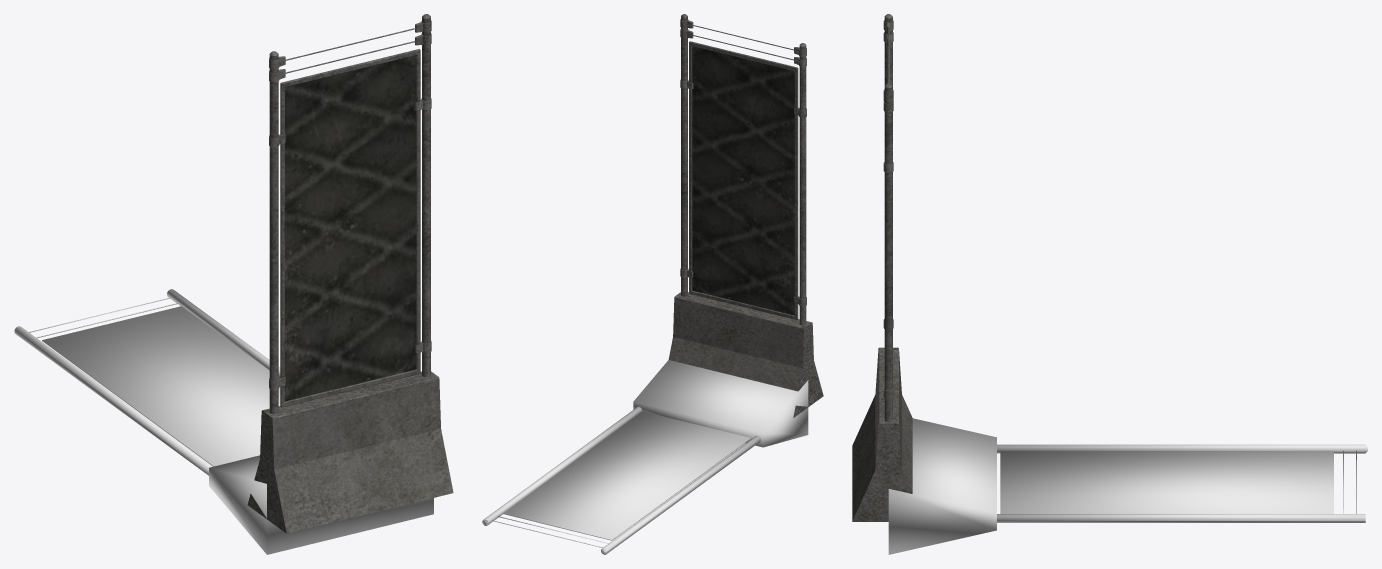
Rendered from SM_MetalFence_Half.fbx.
3 views of the same model, side by side, from view 1: azimuth 30°, elevation 25°; view 2: azimuth 150°, elevation 25°; view 3: azimuth 270°, elevation 25° (orthographic). The views are drawn at different scales.
Parts seen in each view (by area): view 1: SM_MetalFence_Half, SM_MetalFence_Half_ConvexHulls; view 2: SM_MetalFence_Half, SM_MetalFence_Half_ConvexHulls; view 3: SM_MetalFence_Half_ConvexHulls, SM_MetalFence_Half.
Boxes of the visible parts, left/top/right/bottom form: SM_MetalFence_Half: left=247, top=14, right=453, bottom=533; SM_MetalFence_Half_ConvexHulls: left=14, top=289, right=433, bottom=554; SM_MetalFence_Half: left=668, top=14, right=823, bottom=417; SM_MetalFence_Half_ConvexHulls: left=482, top=360, right=808, bottom=554; SM_MetalFence_Half_ConvexHulls: left=888, top=418, right=1367, bottom=554; SM_MetalFence_Half: left=852, top=14, right=912, bottom=521.
Size of the model in its own units: 1.5 by 4.31 by 4.3.
